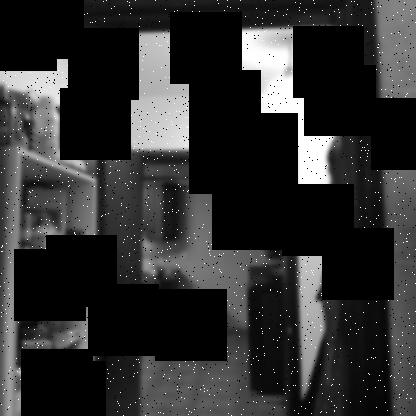Porte: (94, 124, 306, 415)
